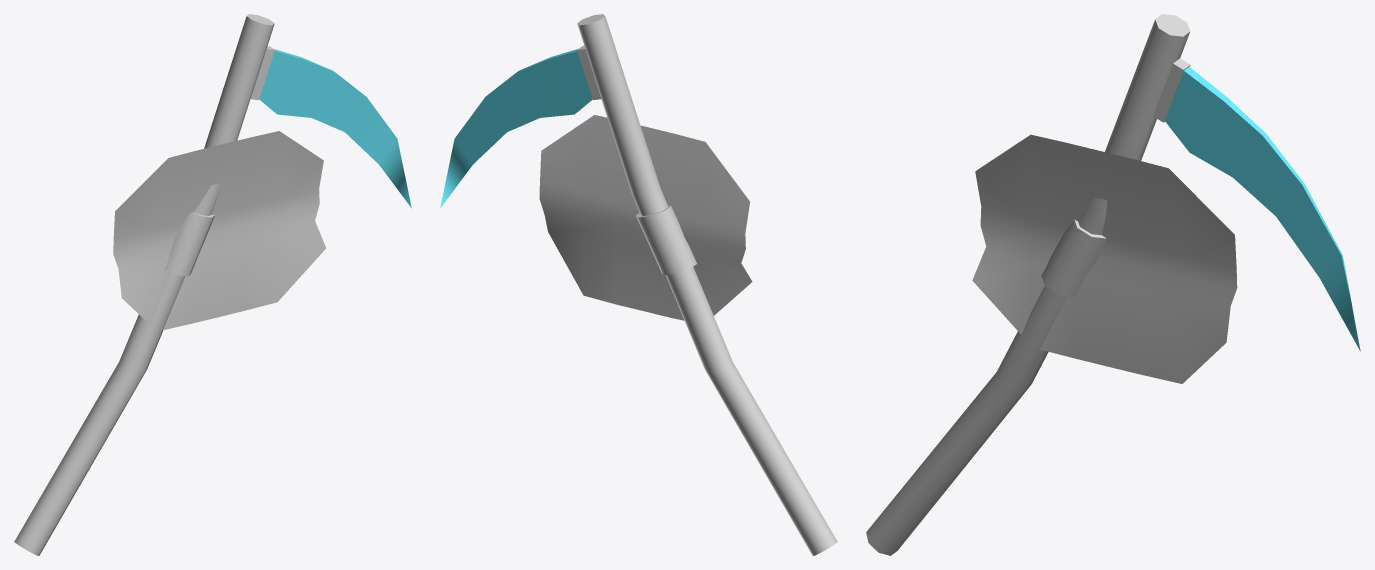
File: Mod_BackPlate_Brains2.fbx
The picture shows the model from 3 angles, left to right: view 1: azimuth 30°, elevation 25°; view 2: azimuth 150°, elevation 25°; view 3: azimuth 330°, elevation 25°; orthographic projection. The views are drawn at different scales.
Visible parts, largest first — view 1: Mod_BackPlate_Brains2; view 2: Mod_BackPlate_Brains2; view 3: Mod_BackPlate_Brains2.
Boxes of the visible parts, bbox=[...] form: Mod_BackPlate_Brains2: bbox=[14, 14, 411, 555]; Mod_BackPlate_Brains2: bbox=[440, 14, 837, 555]; Mod_BackPlate_Brains2: bbox=[866, 14, 1360, 555].
Size of the model in its own units: 617 by 722 by 55.1.
